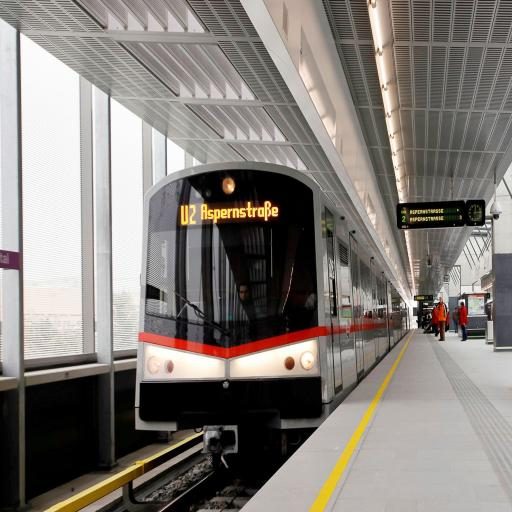V-Wagen: (136, 156, 412, 430)
